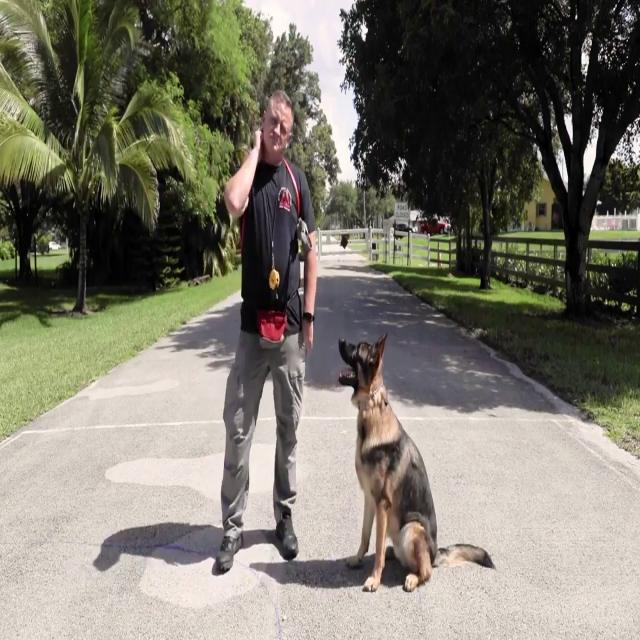Unleashed_Dog: (277, 331, 497, 592)
